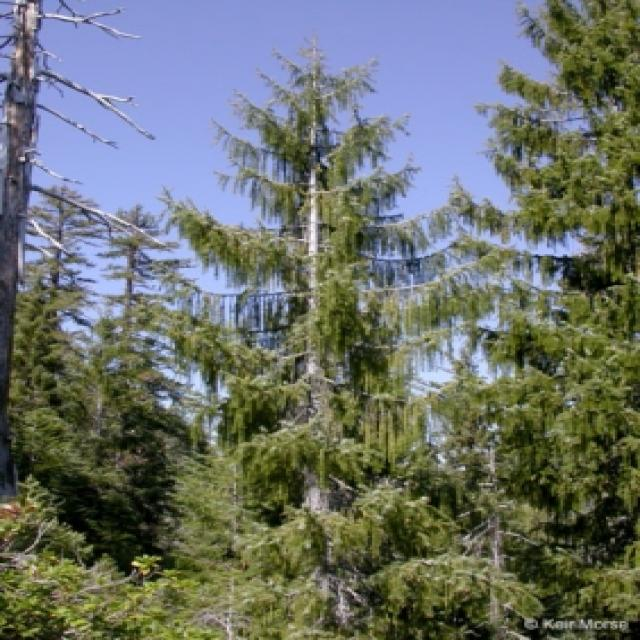Picea breweriana: (157, 43, 490, 488)
